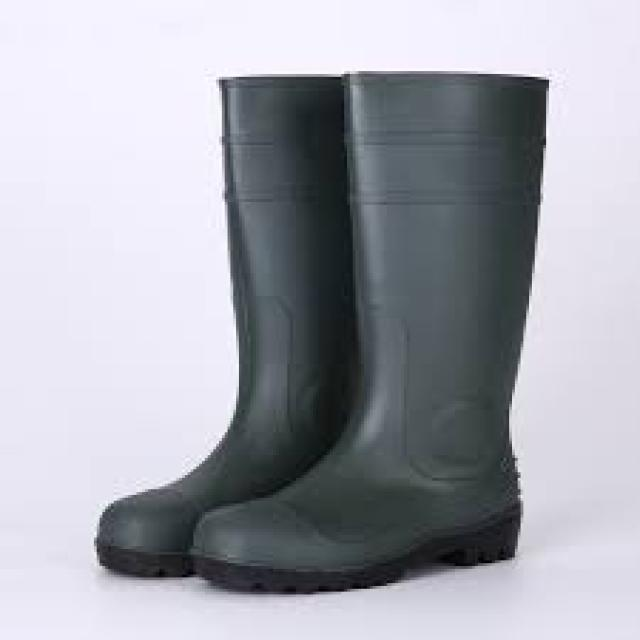shoes: (96, 72, 544, 591)
